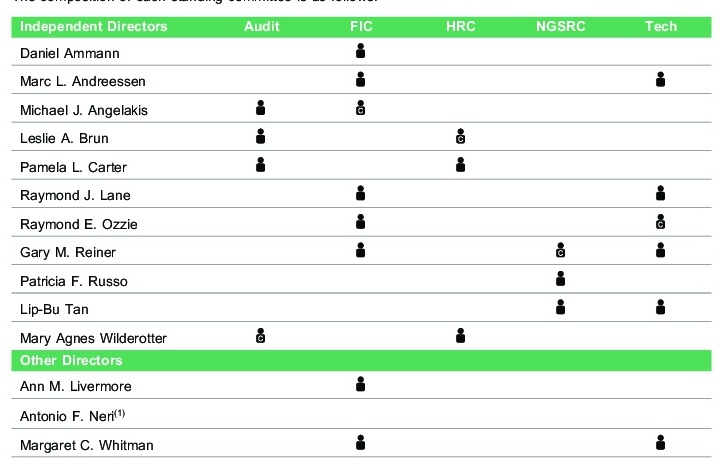table: (0, 0, 725, 471)
